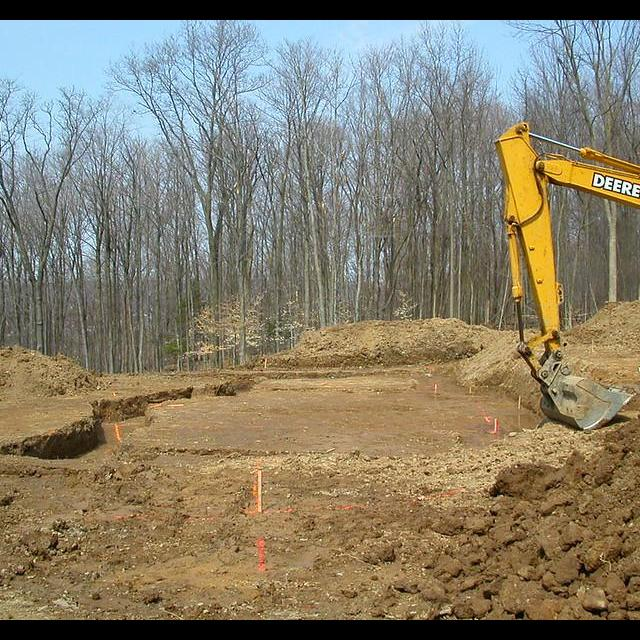Excavator: (495, 120, 640, 433)
